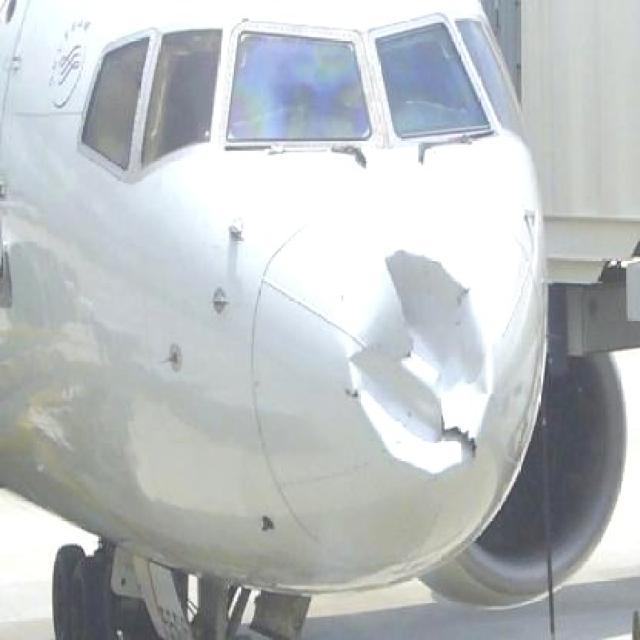dent: (347, 250, 493, 483)
